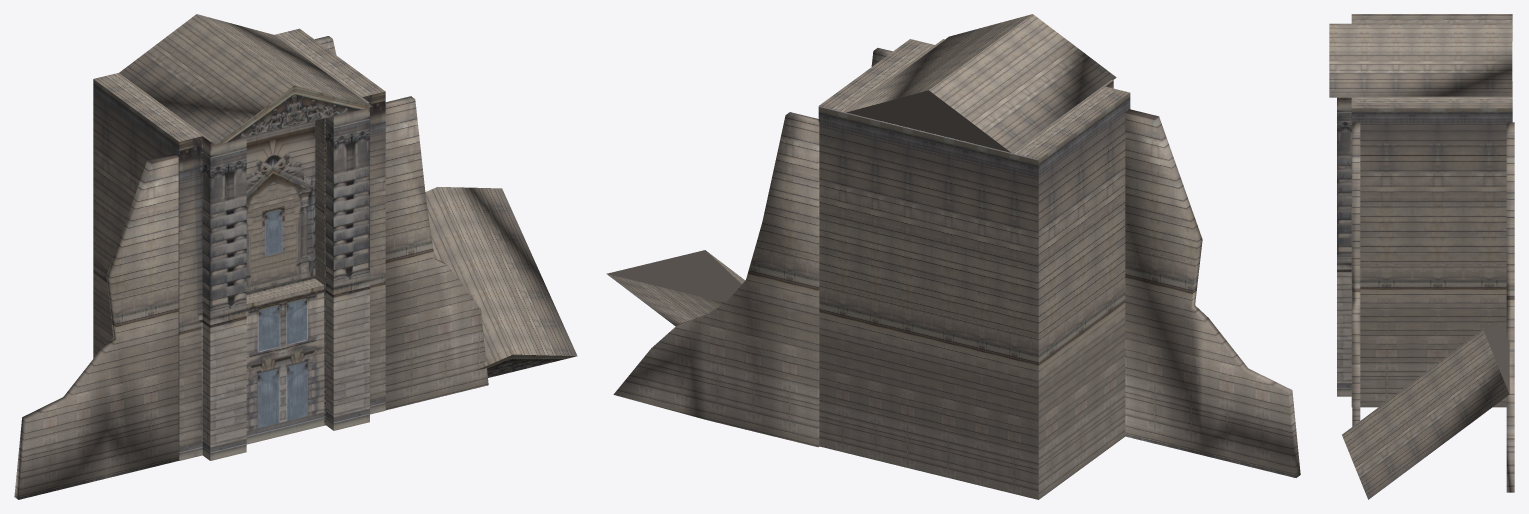
The model's file is building16.obj.
3 views of the same model, side by side, from view 1: azimuth 30°, elevation 25°; view 2: azimuth 150°, elevation 25°; view 3: azimuth 270°, elevation 25° (orthographic). The views are drawn at different scales.
Parts seen in each view (by area): view 1: building16; view 2: building16; view 3: building16.
Part boxes in pixels (bbox=[...]): building16: bbox=[14, 14, 577, 499]; building16: bbox=[606, 14, 1300, 499]; building16: bbox=[1329, 14, 1514, 499].
Size of the model in its own units: 1082 by 656 by 326.
1 material, 1 textured.
